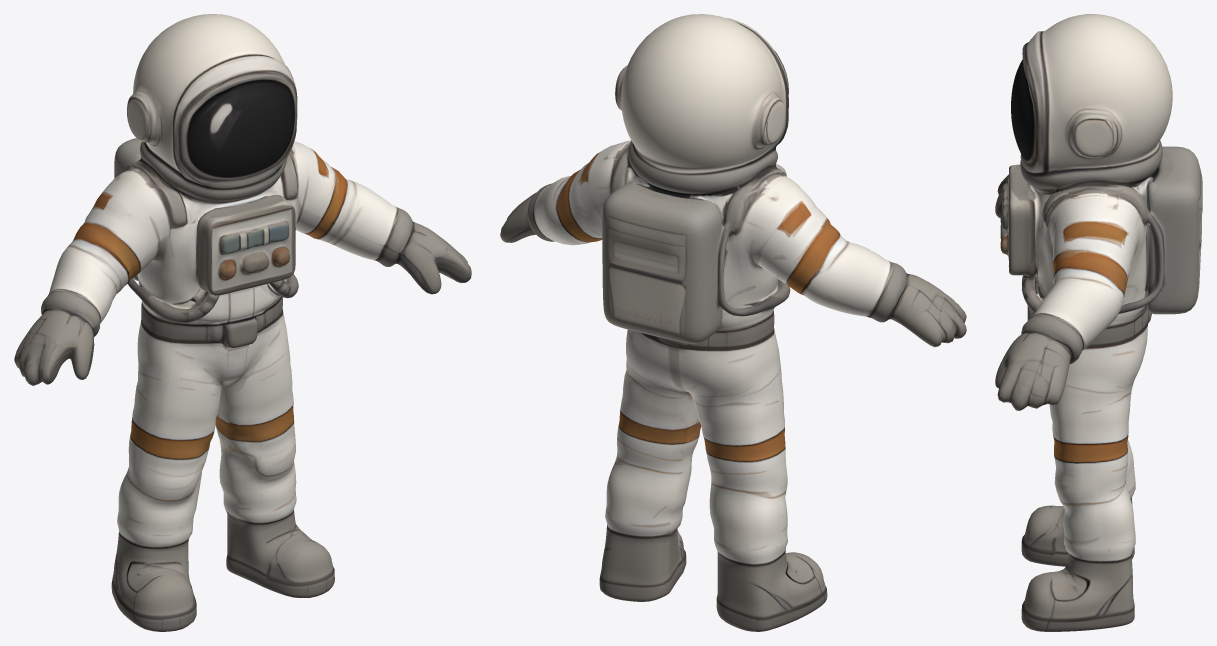
The model's file is astronaut-source.glb.
The picture shows the model from 3 angles, left to right: view 1: azimuth 30°, elevation 25°; view 2: azimuth 150°, elevation 25°; view 3: azimuth 270°, elevation 25°; orthographic projection. The views are drawn at different scales.
Visible parts, largest first — view 1: model; view 2: model; view 3: model.
Part boxes in pixels (<box>): model: <box>14,14,471,631</box>; model: <box>500,14,966,631</box>; model: <box>995,14,1202,631</box>.
Bounding box in the file's own units: 1.56 × 1.91 × 0.6321.
1 material, 1 textured.
